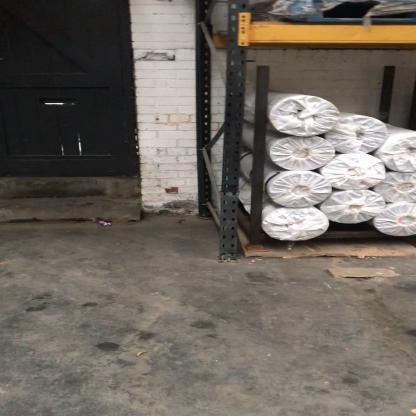vertical_damage: (219, 167, 249, 213)
